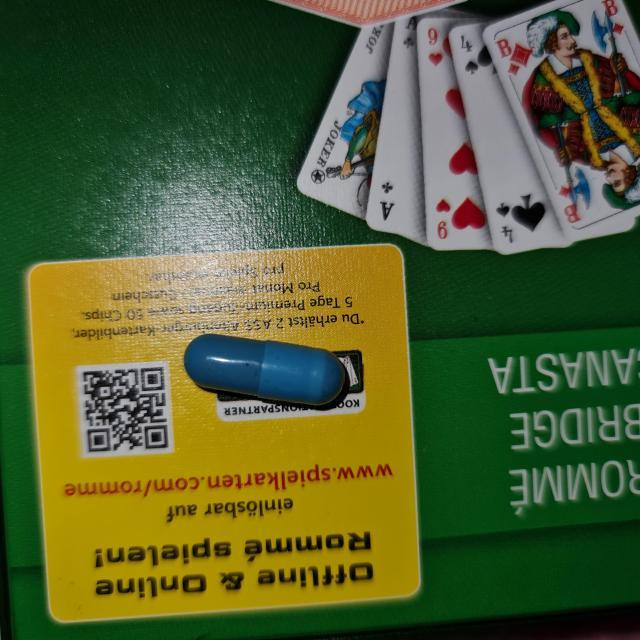pill: (181, 331, 349, 412)
